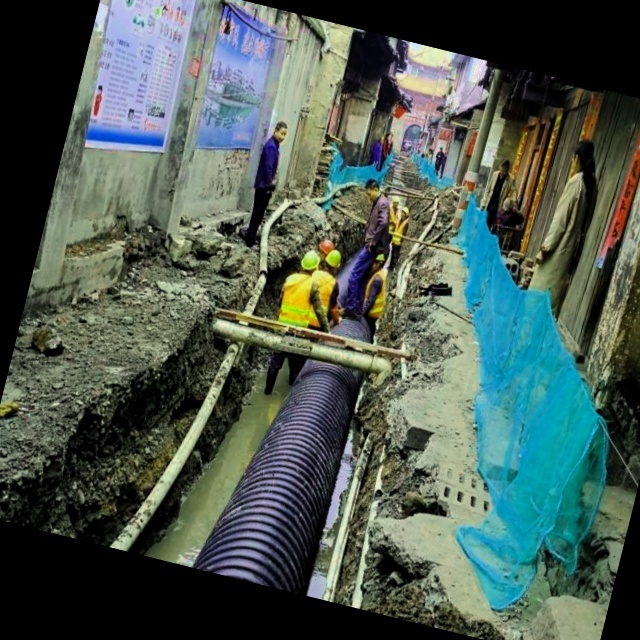Con_Casco: (298, 248, 322, 276), (323, 249, 343, 272)
Con_Chaleco: (276, 273, 322, 331), (359, 269, 391, 318)
Sin_Casco_Mascarrilla: (567, 136, 598, 178), (362, 177, 382, 203), (271, 119, 290, 143)
Sin_Chaleco: (252, 140, 287, 192)
